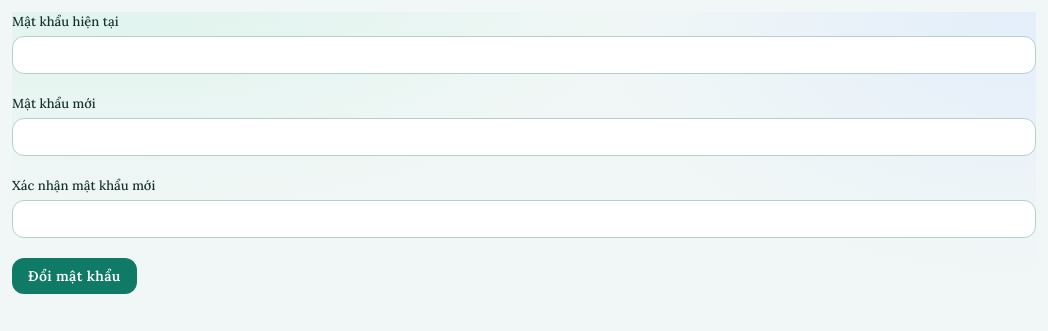
it: ChangePasswordForm › validate client: confirm không khớp, không gọi API
The width and height of the screenshot is (1048, 331).
In the password field labelled "Mật khẩu hiện tại": (524, 55) top-left (12, 36), bottom-right (1036, 74), type "Oldpass1"
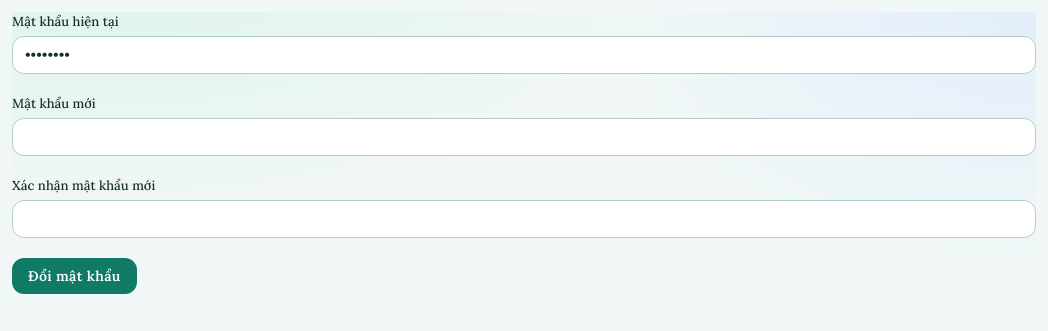
In the password field labelled "Mật khẩu mới": (524, 137) top-left (12, 118), bottom-right (1036, 156), type "Newpass1"
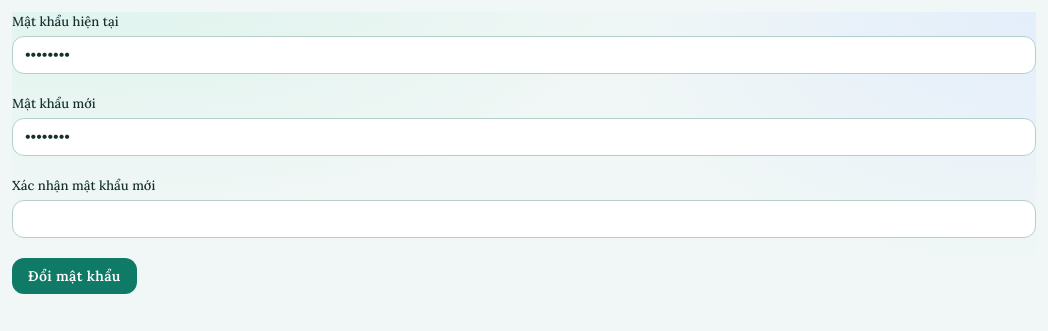
In the password field labelled "Xác nhận mật khẩu mới": (524, 219) top-left (12, 200), bottom-right (1036, 238), type "Other123"
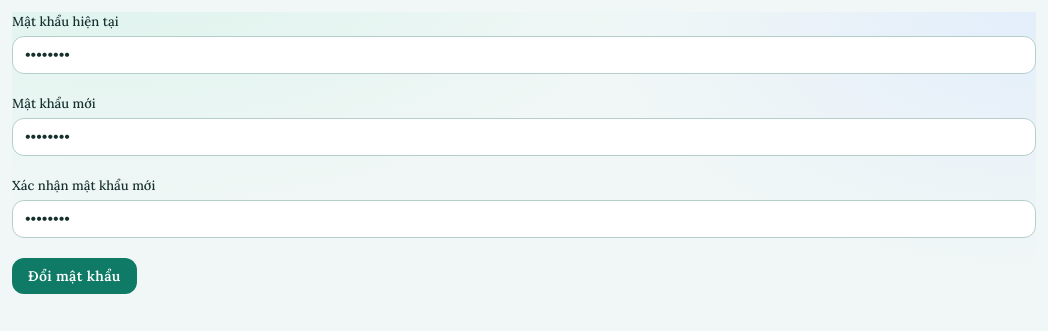
Click the button "Đổi mật khẩu": (74, 276) top-left (12, 258), bottom-right (137, 294)
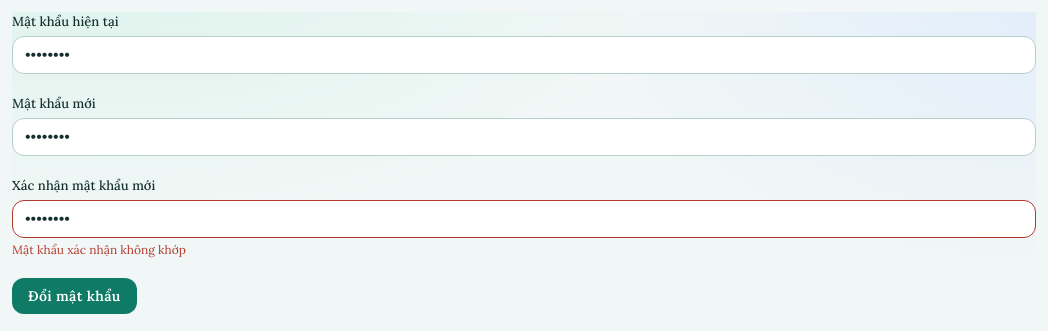
Result: the text "Mật khẩu xác nhận không khớp" is shown at top-left (12, 242), bottom-right (186, 257)
